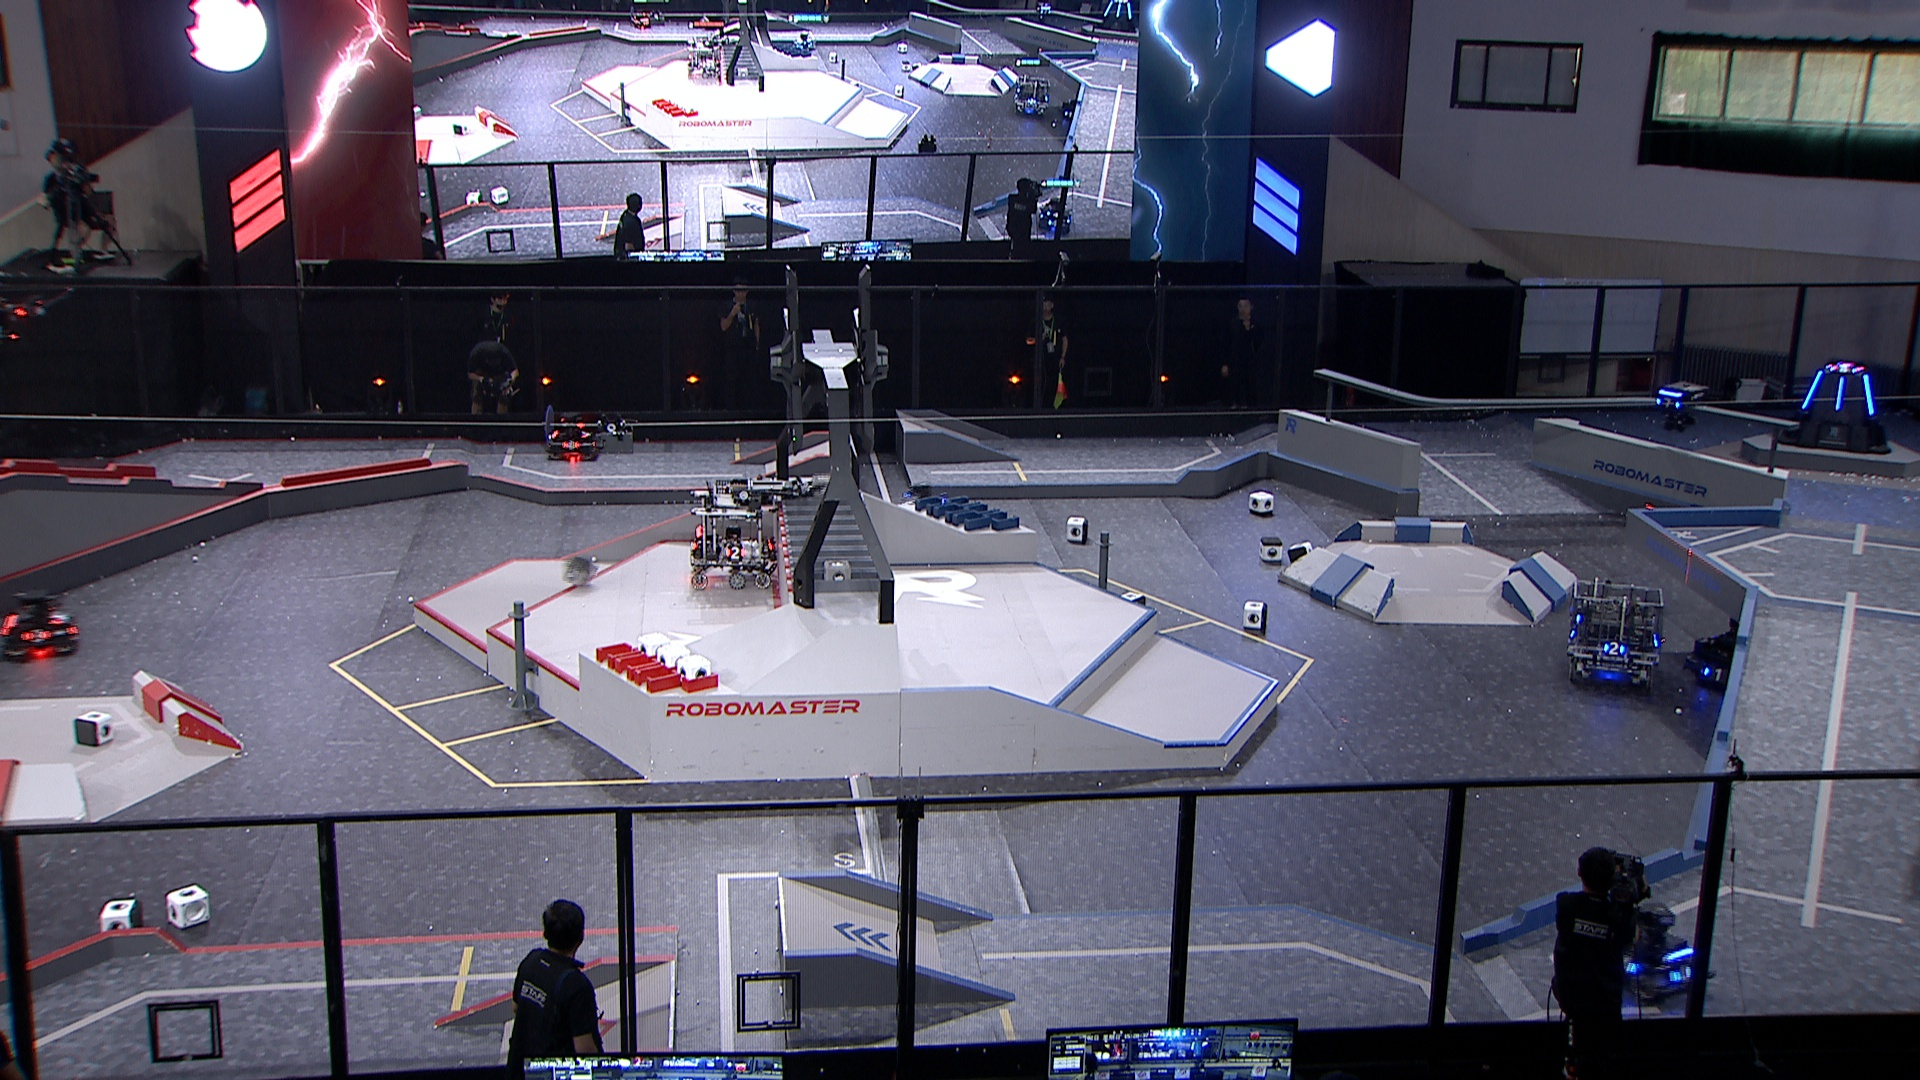armor: (1801, 368, 1825, 410), (1863, 373, 1879, 415), (1667, 964, 1695, 986), (1833, 376, 1847, 410), (21, 628, 49, 645), (1655, 396, 1683, 410), (1602, 641, 1626, 657), (723, 546, 746, 560), (1700, 666, 1724, 680), (50, 611, 69, 626), (560, 439, 580, 451)
base: (1774, 356, 1894, 455)
car: (1564, 575, 1671, 688), (1596, 903, 1713, 1005), (680, 473, 781, 591), (1684, 616, 1793, 703), (893, 481, 955, 527), (545, 410, 600, 462)
ignore: (1011, 74, 1054, 117), (684, 33, 723, 78), (1092, 0, 1139, 34), (1035, 196, 1073, 233), (1058, 98, 1077, 123), (1826, 363, 1865, 375)
watcher: (1650, 380, 1706, 434)
